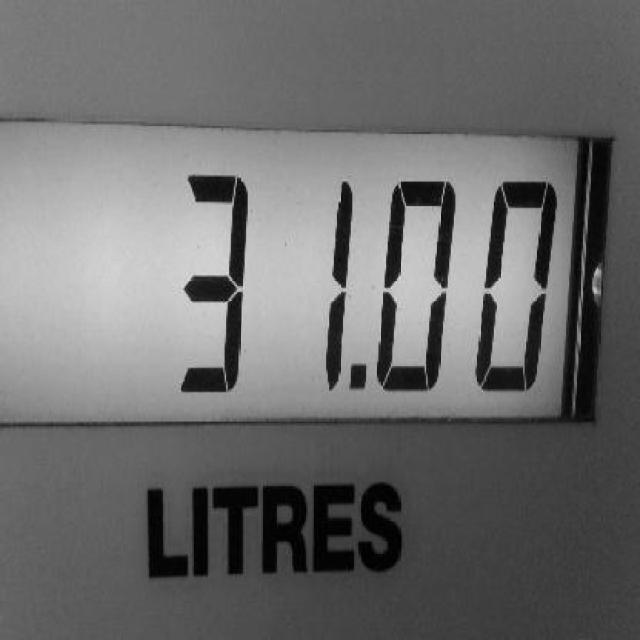.: (347, 360, 367, 393)
0: (476, 180, 558, 390), (377, 181, 455, 391)
1: (326, 171, 354, 399)
3: (179, 173, 248, 394)
